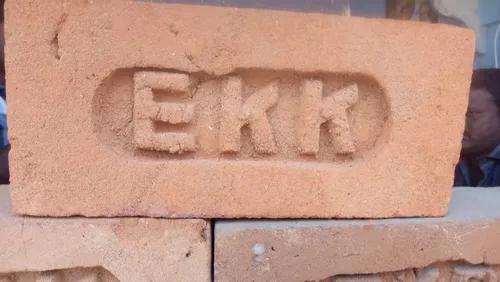brick: (3, 0, 476, 216), (214, 218, 500, 280), (0, 217, 210, 282)
